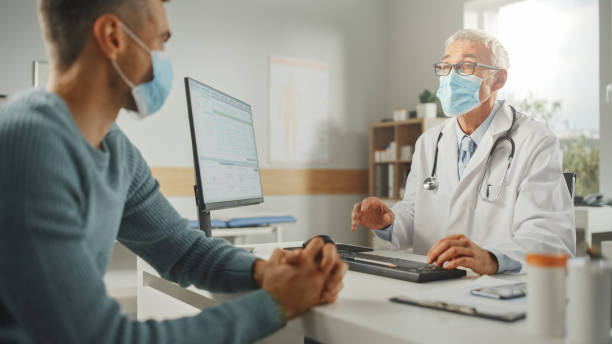with mask: (64, 1, 180, 117), (426, 25, 504, 118)
